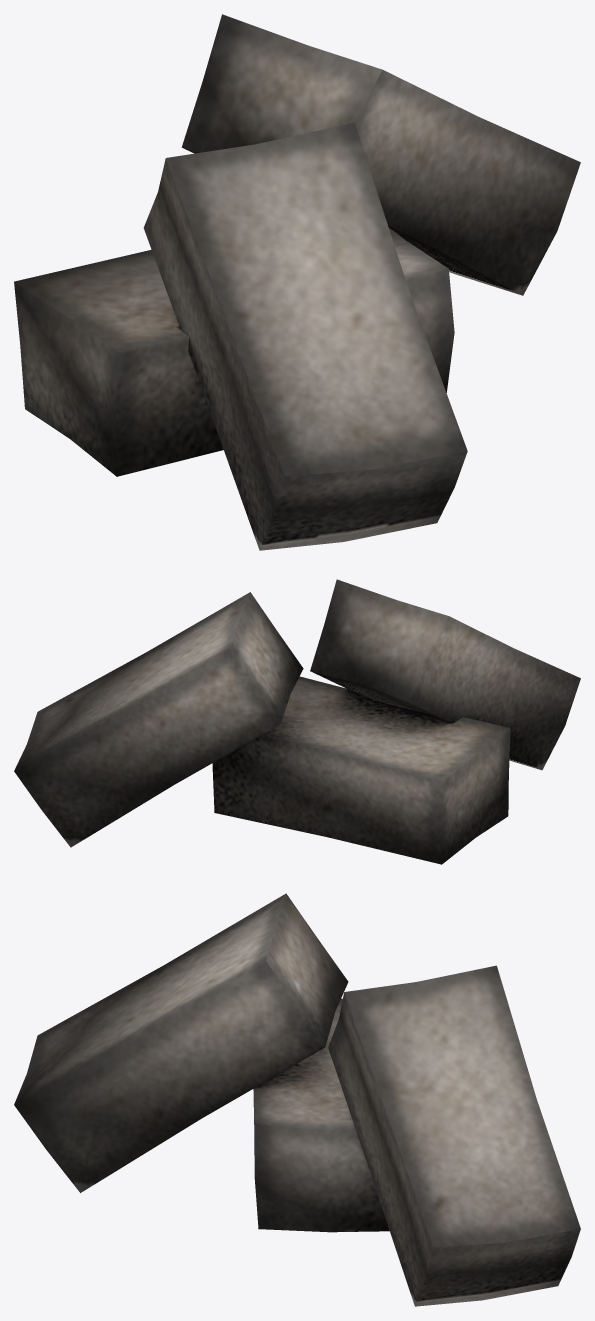
The model's file is prop_debris_small_tijolos.glb.
3 views of the same model, one above another, from view 1: azimuth 30°, elevation 25°; view 2: azimuth 150°, elevation 25°; view 3: azimuth 270°, elevation 25° (orthographic). The views are drawn at different scales.
Parts seen in each view (by area): view 1: prop_debris_small_tijolos_mesh; view 2: prop_debris_small_tijolos_mesh; view 3: prop_debris_small_tijolos_mesh.
Boxes of the visible parts, box(x1,y1,x2,y2) form: prop_debris_small_tijolos_mesh: box(14, 14, 580, 550); prop_debris_small_tijolos_mesh: box(14, 579, 580, 864); prop_debris_small_tijolos_mesh: box(14, 893, 580, 1306).
Size of the model in its own units: 0.6863 by 0.35 by 0.7283.
Materials: 1 (1 with a texture image).
